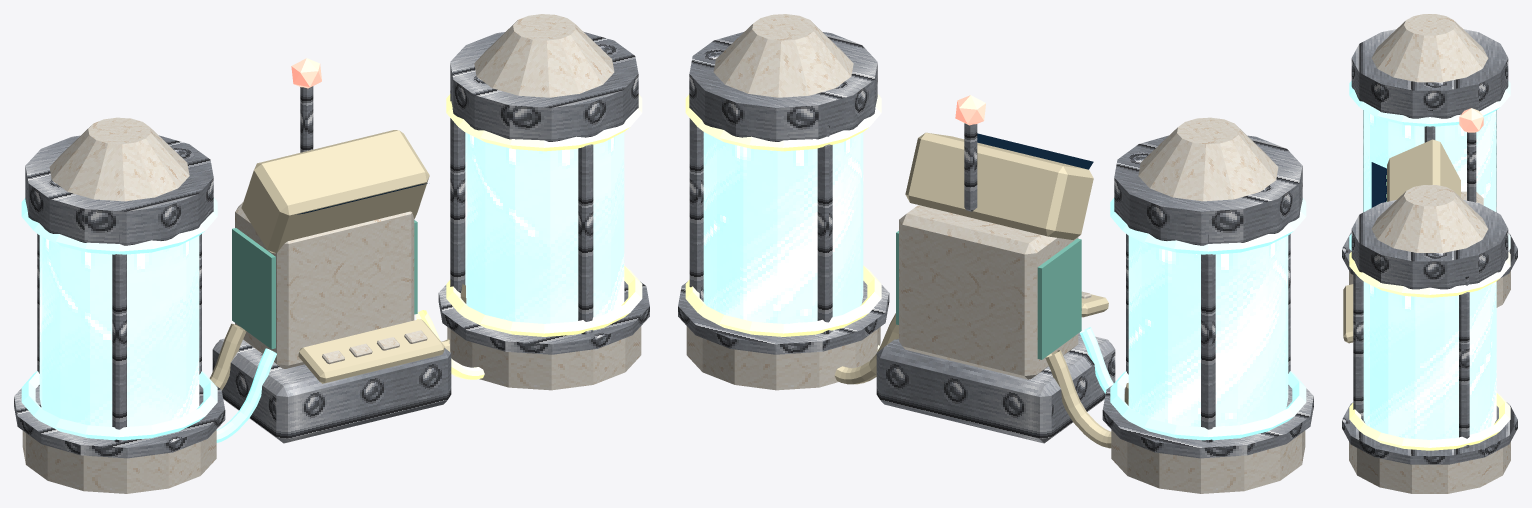
Rendered from billpc.glb.
The picture shows the model from 3 angles, left to right: view 1: azimuth 30°, elevation 25°; view 2: azimuth 150°, elevation 25°; view 3: azimuth 270°, elevation 25°; orthographic projection. The views are drawn at different scales.
Parts seen in each view (by area): view 1: Machine, Glass-1, Glass1, PodA, PodB, Cables, Lamp; view 2: Machine, Glass1, Glass-1, PodA, PodB, Cables, Display, Lamp; view 3: Machine, Glass1, Glass-1, PodB, PodA, Display, Lamp.
Part boxes in pixels (x1=…): Machine: x1=14, y1=14, x2=649, y2=493; Glass-1: x1=39, y1=236, x2=199, y2=426; Glass1: x1=465, y1=132, x2=624, y2=323; PodA: x1=21, y1=198, x2=217, y2=440; PodB: x1=446, y1=94, x2=642, y2=336; Cables: x1=209, y1=283, x2=484, y2=442; Lamp: x1=291, y1=58, x2=321, y2=88; Machine: x1=678, y1=14, x2=1313, y2=493; Glass1: x1=703, y1=132, x2=863, y2=323; Glass-1: x1=1128, y1=236, x2=1288, y2=426; PodA: x1=1110, y1=198, x2=1306, y2=440; PodB: x1=685, y1=94, x2=881, y2=336; Cables: x1=834, y1=313, x2=1128, y2=448; Display: x1=977, y1=133, x2=1093, y2=169; Lamp: x1=955, y1=95, x2=985, y2=125; Machine: x1=1342, y1=14, x2=1517, y2=493; Glass1: x1=1363, y1=281, x2=1496, y2=439; Glass-1: x1=1363, y1=110, x2=1496, y2=212; PodB: x1=1349, y1=252, x2=1510, y2=450; PodA: x1=1349, y1=81, x2=1510, y2=250; Display: x1=1371, y1=162, x2=1386, y2=207; Lamp: x1=1459, y1=108, x2=1483, y2=132.
Size of the model in its own units: 4.84 by 2.49 by 1.48.
Materials: 9 (4 with a texture image).
